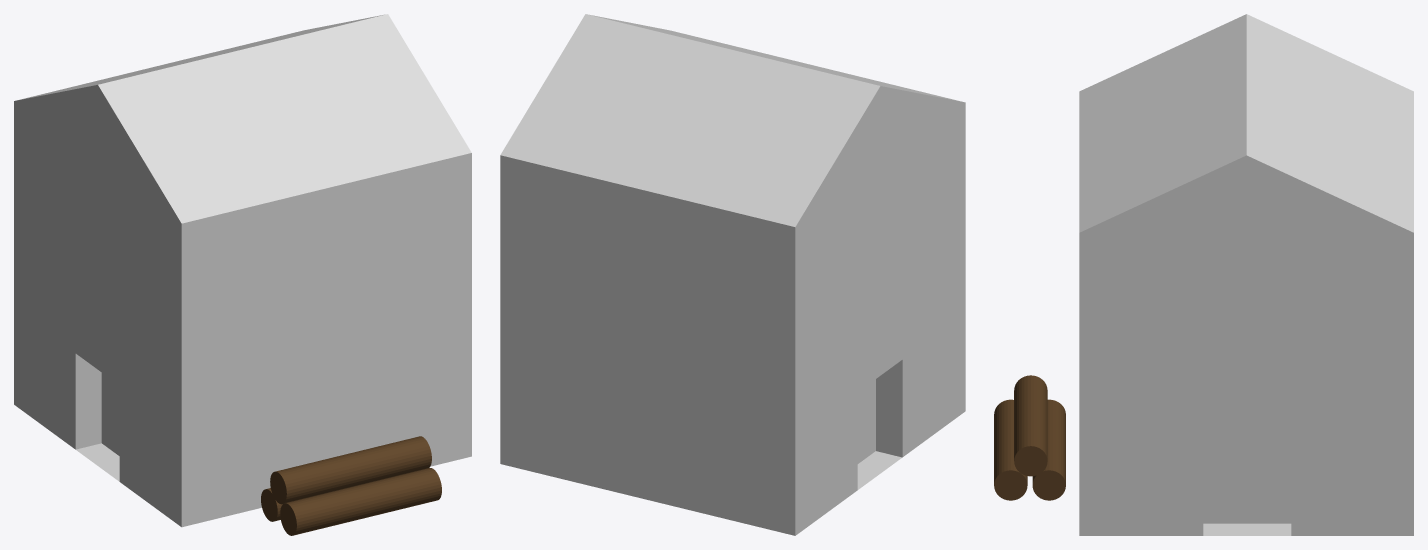
Rendered from Lumberyard.dae.
3 views of the same model, side by side, from view 1: azimuth 30°, elevation 25°; view 2: azimuth 150°, elevation 25°; view 3: azimuth 270°, elevation 25° (orthographic).
Visible parts, largest first — view 1: Cube, Cylinder, Cylinder.002; view 2: Cube; view 3: Cube, Cylinder.002, Cylinder, Cylinder.001.
Boxes of the visible parts, x1,y1,x2,y2 form: Cube: (14,14,471,527); Cylinder: (280,468,441,535); Cylinder.002: (270,436,431,504); Cube: (500,14,965,535); Cube: (1079,14,1413,535); Cylinder.002: (1014,375,1047,476); Cylinder: (994,399,1027,500); Cylinder.001: (1032,399,1065,500).
Size of the model in its own units: 2 by 2.51 by 2.51.
